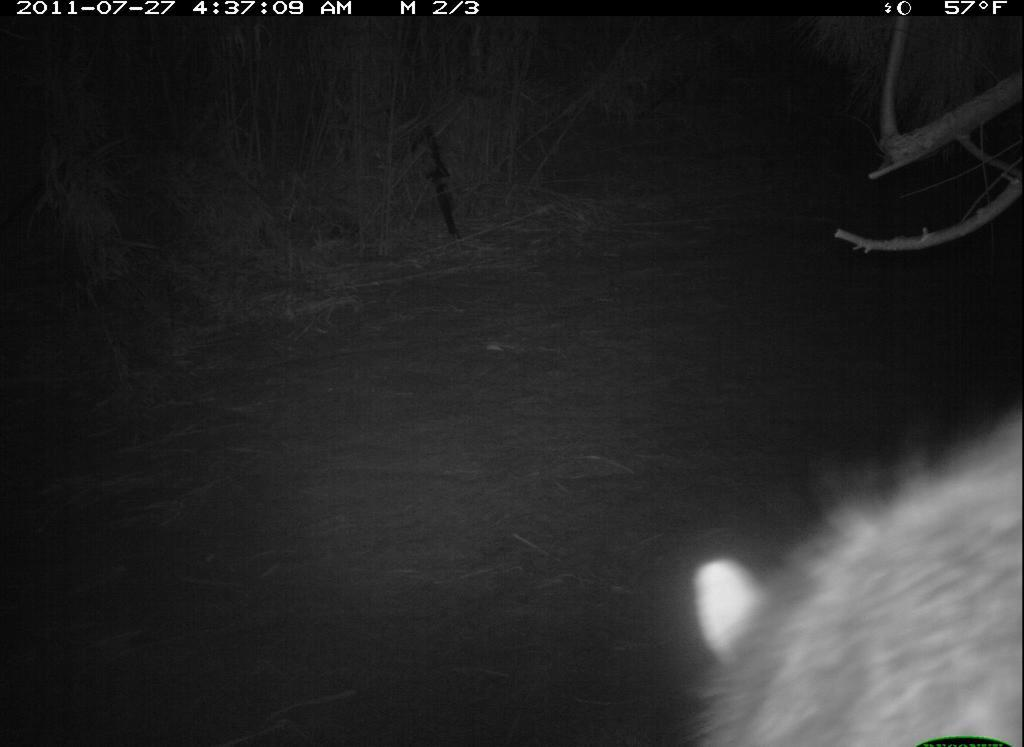raccoon: (690, 397, 1022, 747)
